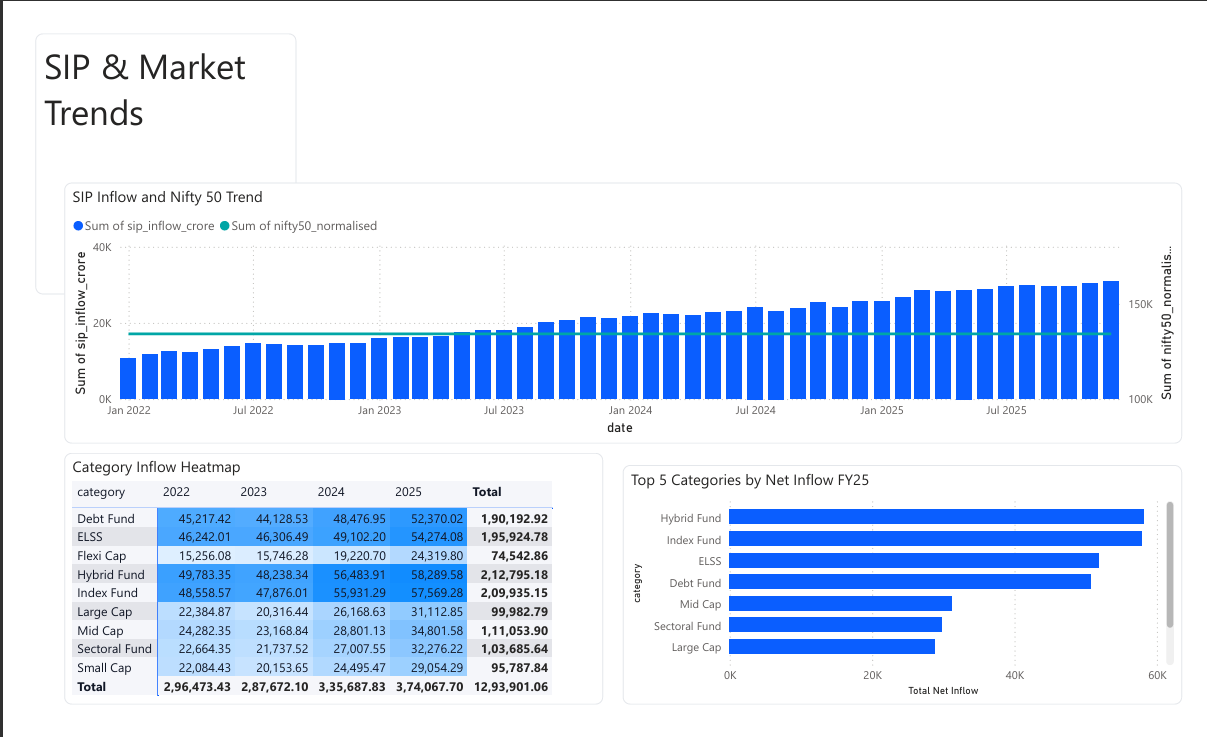

The page's visual inventory and layout, read from the dashboard file:
{"tool":"powerbi","page":{"name":"SIP & Market Trends","canvas":[1280,720],"ordinal":3},"visuals":[{"type":"textbox","box":[10,0,280,280],"z":0},{"type":"lineClusteredColumnComboChart","title":"SIP Inflow and Nifty 50 Trend","fields":{"Category":["fact_sip.date"],"Y":["Sum(fact_sip.sip_inflow_crore)"],"Y2":["Sum(fact_benchmark.nifty50_normalised)"]},"box":[41.3,159.6,1198.8,280.8],"z":1},{"type":"pivotTable","title":"Category Inflow Heatmap","fields":{"Rows":["fact_category_inflows.category"],"Columns":["fact_category_inflows.year_month.Variation.Date Hierarchy.Year","fact_category_inflows.year_month.Variation.Date Hierarchy.Quarter","fact_category_inflows.year_month.Variation.Date Hierarchy.Month","fact_category_inflows.year_month.Variation.Date Hierarchy.Day"],"Values":["dim_date.Total Net Inflow"]},"box":[41.3,450.4,577.3,269.4],"z":2},{"type":"clusteredBarChart","title":"Top 5 Categories by Net Inflow FY25","fields":{"Category":["fact_category_inflows.category"],"Y":["dim_date.Total Net Inflow"]},"box":[640,463.3,600.1,256.6],"z":3}]}

Visuals, with their boxes on the page's 1280x720 design canvas (x1, y1, x2, y2). These are canvas units, not pixel positions in the 1207x737 screenshot, which may show the page scaled, cropped or inside an application window:
textbox: detection(10, 0, 290, 280)
"SIP Inflow and Nifty 50 Trend" lineClusteredColumnComboChart: detection(41, 160, 1240, 440)
"Category Inflow Heatmap" pivotTable: detection(41, 450, 619, 720)
"Top 5 Categories by Net Inflow FY25" clusteredBarChart: detection(640, 463, 1240, 720)
